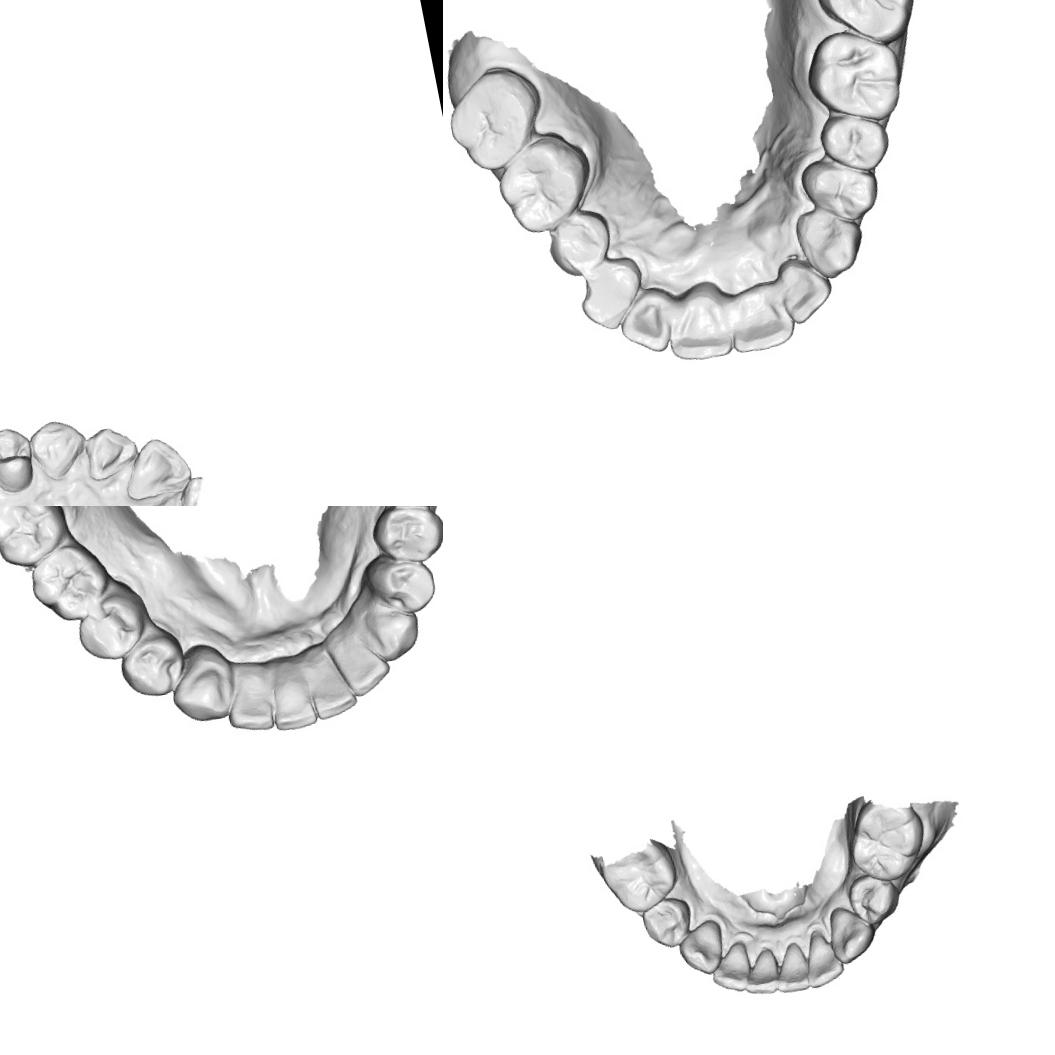canine: (790, 199, 870, 285), (570, 250, 650, 336), (164, 649, 241, 730), (354, 596, 426, 668), (23, 414, 91, 486), (823, 900, 881, 967), (672, 916, 729, 978)
incisor: (658, 290, 736, 368), (721, 284, 800, 355), (119, 430, 195, 500), (612, 284, 682, 360), (262, 664, 321, 734), (778, 262, 837, 330), (80, 420, 144, 482), (220, 672, 280, 737), (339, 632, 394, 700), (304, 660, 360, 724), (705, 939, 755, 997), (798, 930, 846, 990), (736, 944, 782, 999), (768, 938, 812, 995)
molar: (487, 123, 601, 241), (443, 59, 551, 179), (798, 20, 906, 132), (23, 536, 116, 630), (841, 794, 933, 888), (596, 837, 683, 919), (807, 0, 924, 56), (0, 506, 75, 575)
premolar: (796, 148, 882, 228), (534, 197, 614, 282), (810, 105, 894, 182), (70, 588, 150, 666), (359, 547, 442, 622), (116, 628, 192, 704), (365, 506, 443, 570), (843, 868, 905, 928), (638, 892, 697, 952), (0, 421, 40, 497)
